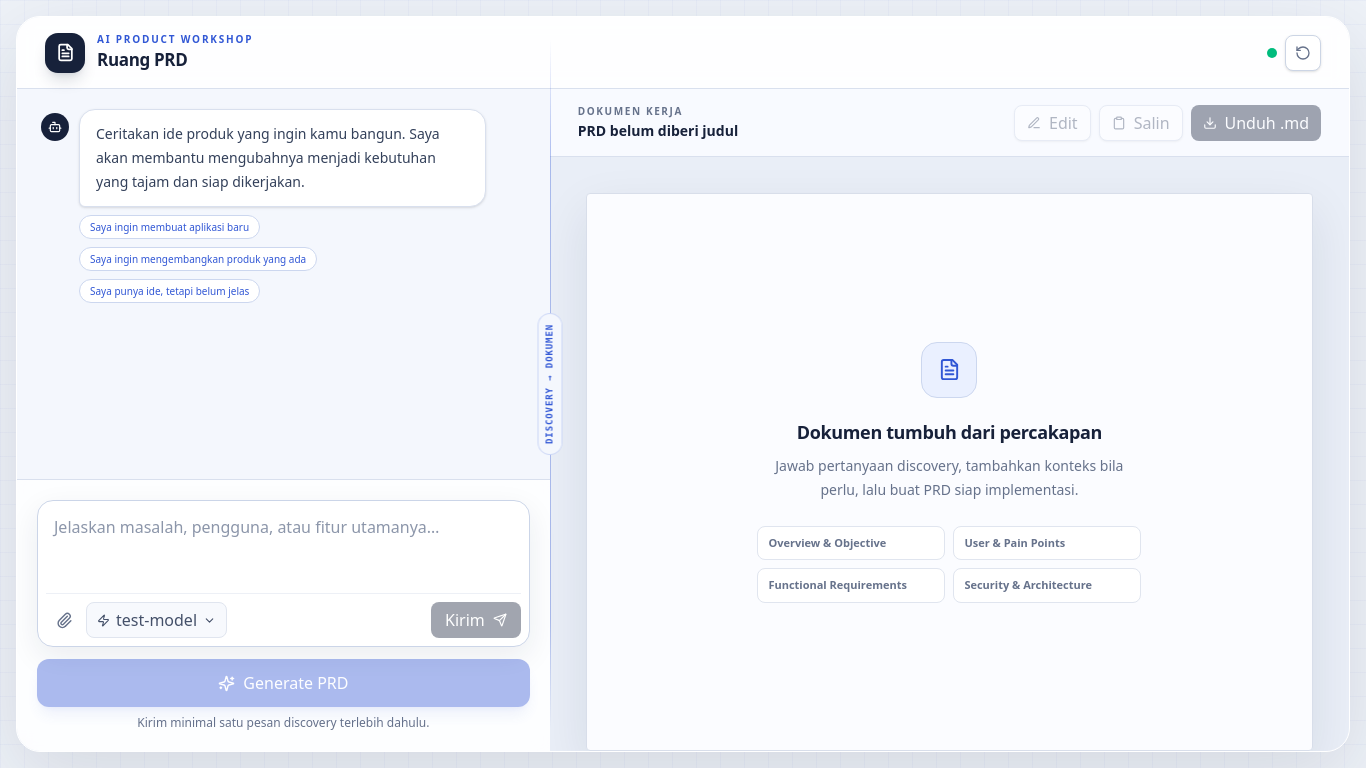
Scenario: Ruang PRD › menjalankan discovery dan menyimpan workspace
The width and height of the screenshot is (1366, 768).
Type "Aplikasi untuk pasien klinik" into the text box named "Pesan discovery". click: point(283, 551)
box: [46, 509, 521, 593]
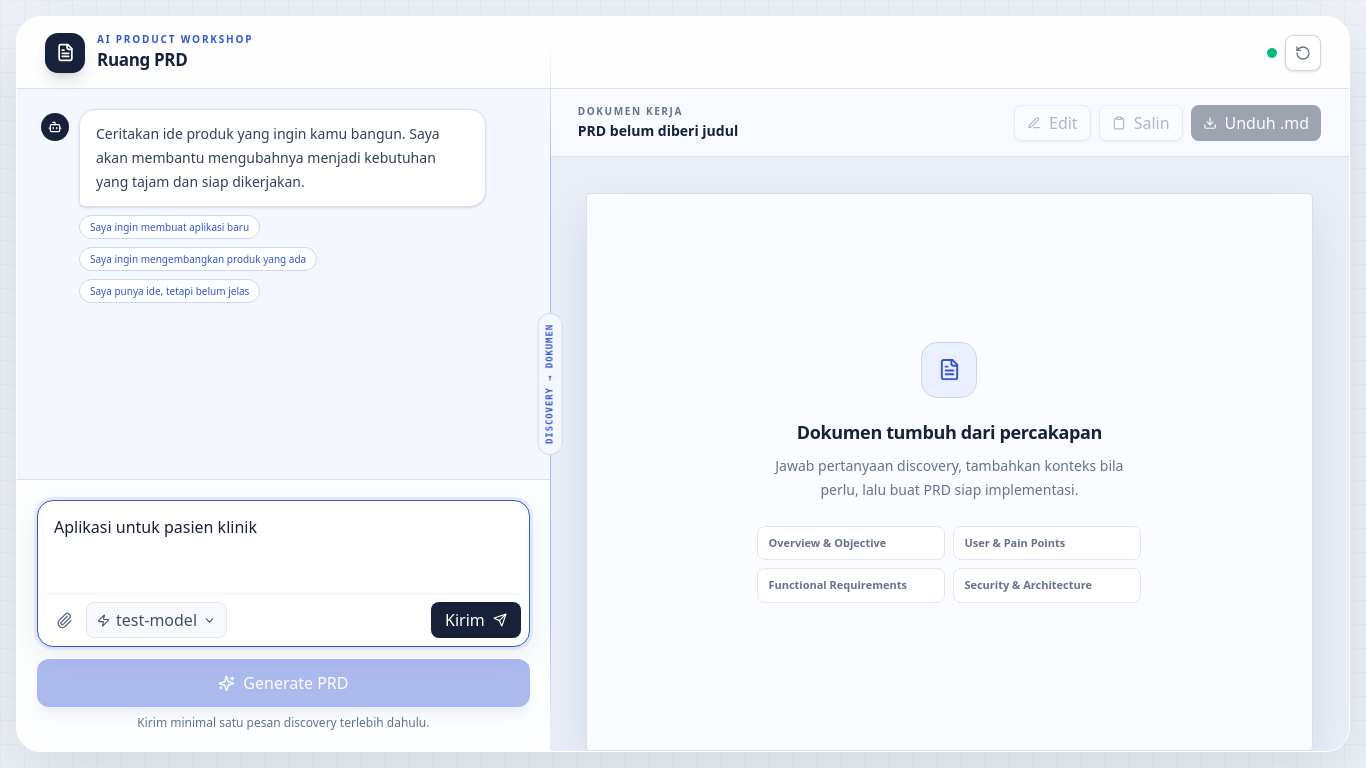
Click the button "Kirim". click: point(476, 620)
box: [431, 602, 521, 638]
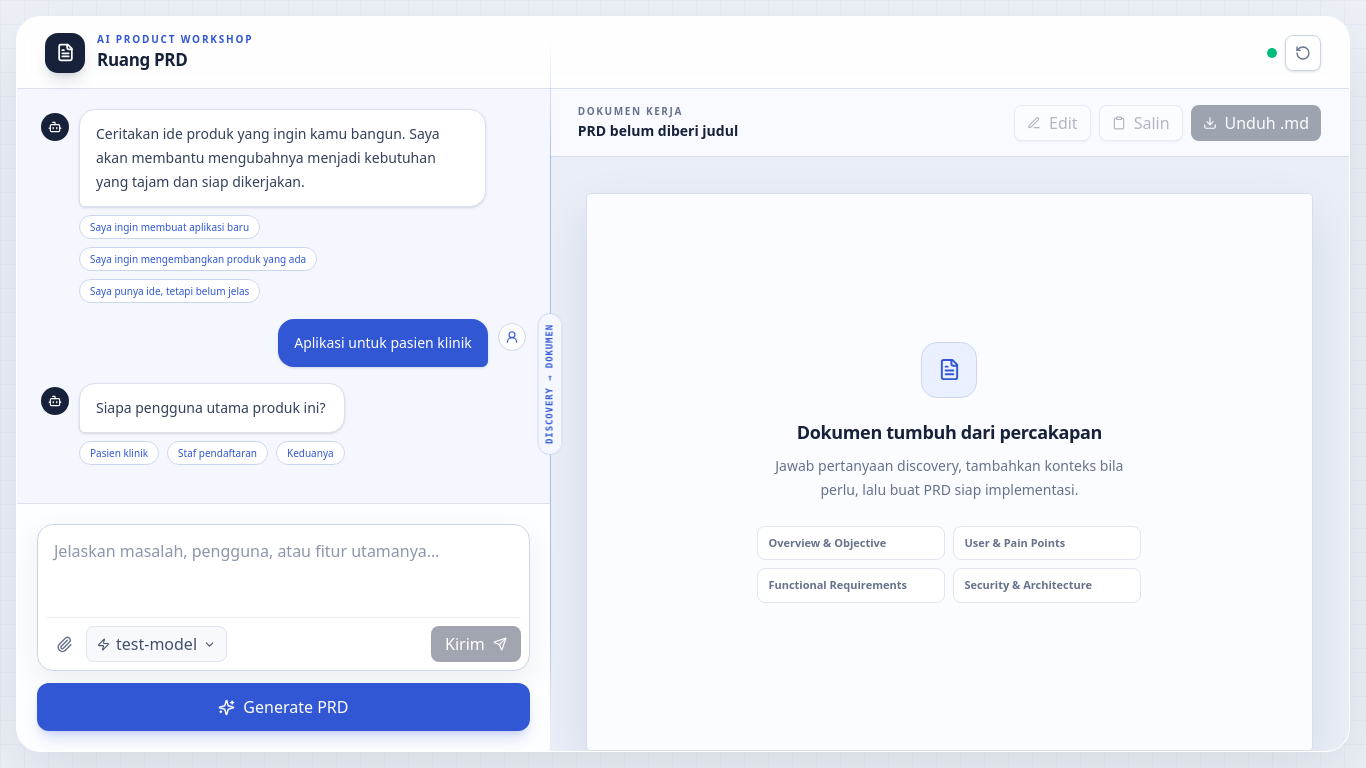
Result: the text "Siapa pengguna utama produk ini?" is shown at [96, 396, 328, 420]
Result: the button "Pasien klinik" is shown at [79, 441, 159, 465]
